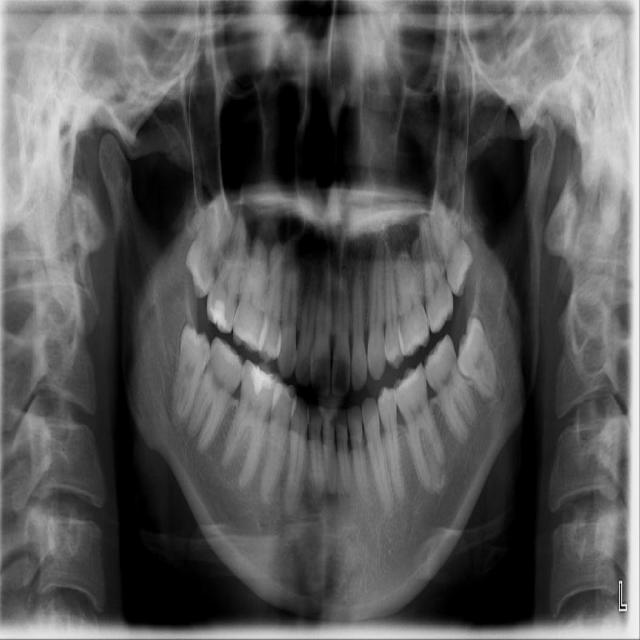Filling: (250, 365, 273, 395), (210, 300, 226, 330)
Periapical lesion: (305, 480, 327, 515), (326, 488, 340, 506)
impacted tooth: (169, 325, 210, 431), (185, 198, 227, 294), (431, 195, 471, 292), (458, 319, 497, 399)
